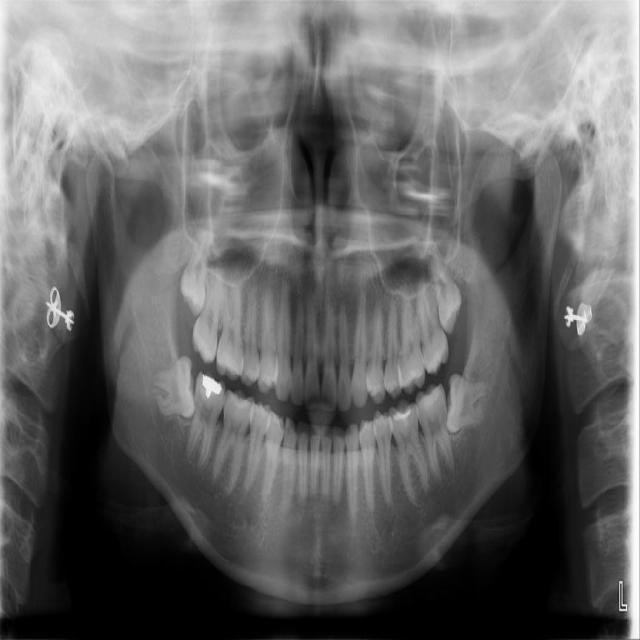Filling: (197, 374, 224, 402), (390, 407, 413, 426)
impacted tooth: (424, 240, 461, 330), (179, 219, 212, 317), (147, 358, 196, 417), (444, 375, 492, 432)
